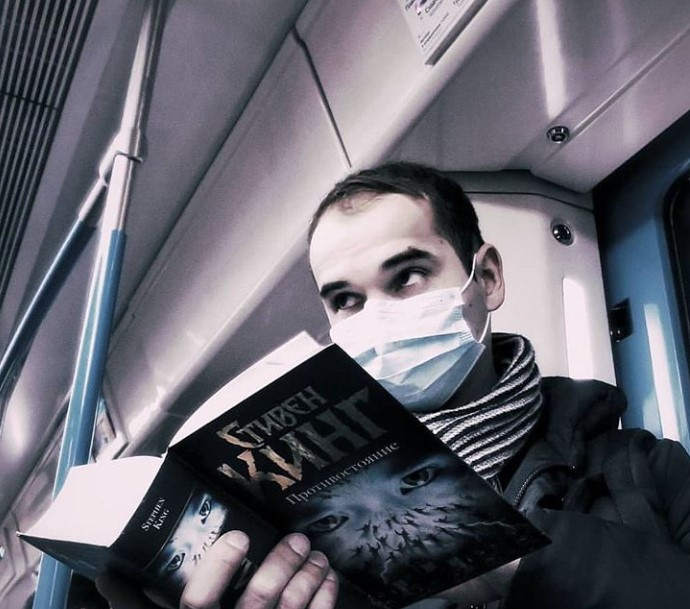face_with_mask: (303, 169, 504, 411)
